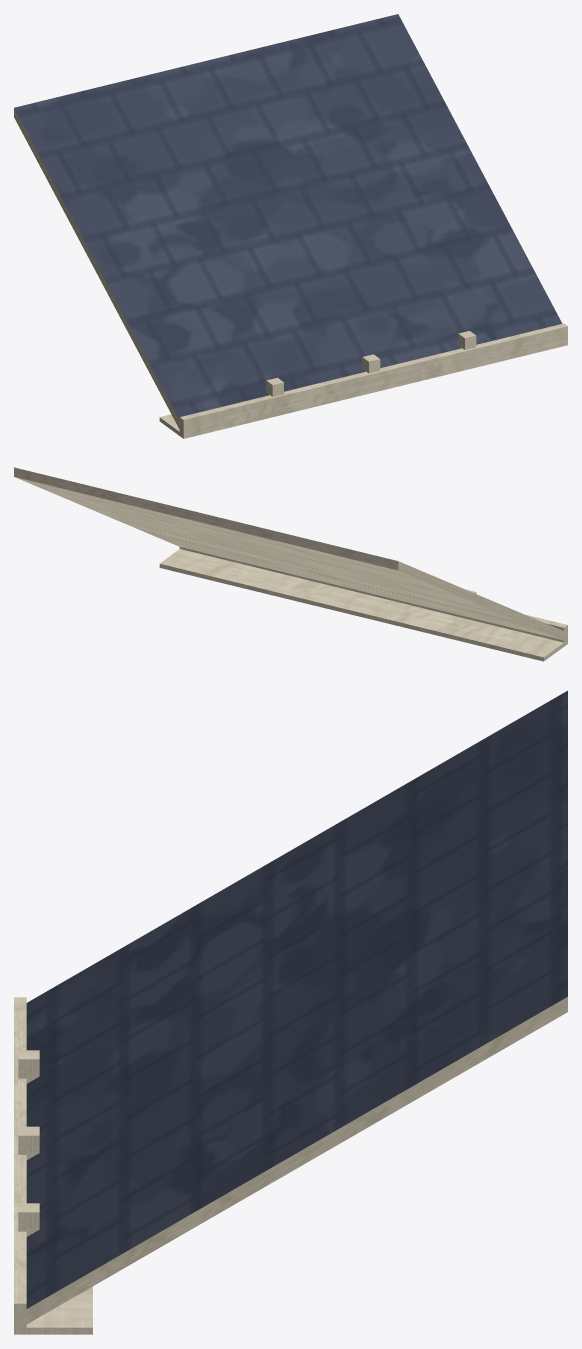
The model's file is house_02_roof_slope.glb.
3 renders of one model, top to bottom at view 1: azimuth 30°, elevation 25°; view 2: azimuth 150°, elevation 25°; view 3: azimuth 270°, elevation 25°, orthographic. The views are drawn at different scales.
Visible parts, largest first — view 1: outdoor_house_02_roof_slope; view 2: outdoor_house_02_roof_slope; view 3: outdoor_house_02_roof_slope.
Boxes of the visible parts, x1,y1,x2,y2 form: outdoor_house_02_roof_slope: (14,14,567,438); outdoor_house_02_roof_slope: (14,467,567,661); outdoor_house_02_roof_slope: (14,690,567,1334).
Bounding box in the file's own units: 3.4 × 1.75 × 2.6.
1 material, 1 textured.
